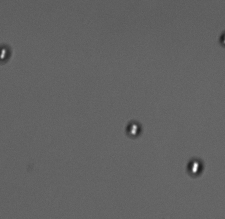Living Cell: (185, 158, 206, 177), (123, 120, 142, 139), (1, 43, 12, 66)
